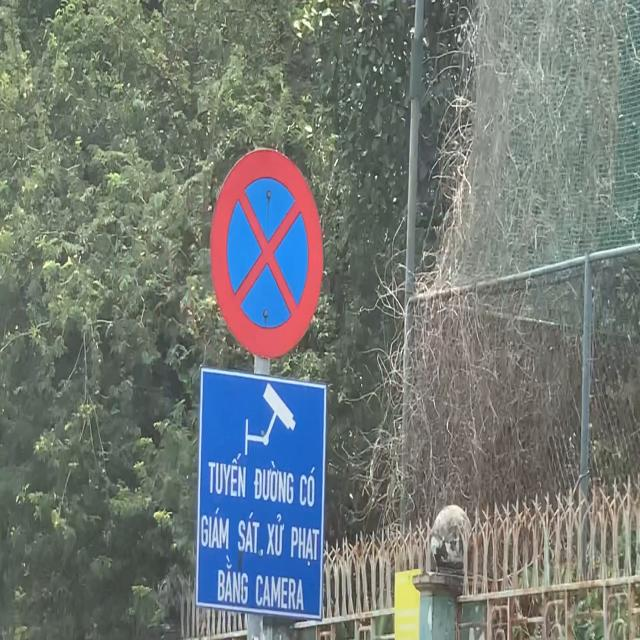Cam dung va do: (206, 142, 328, 366)
